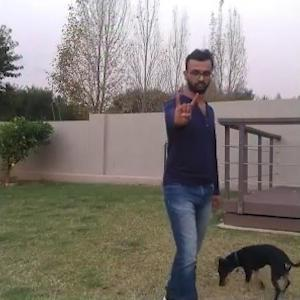takeoff-hand: (167, 85, 205, 131)
